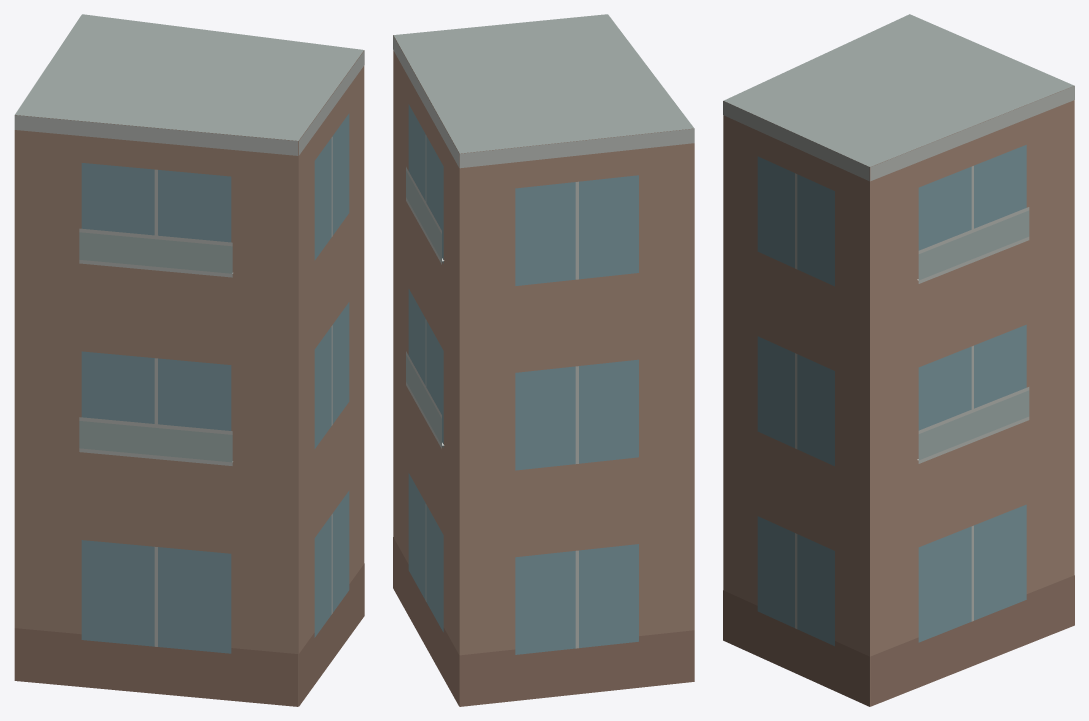
Rendered from survey-upis-32945303.glb.
The picture shows the model from 3 angles, left to right: view 1: azimuth 30°, elevation 25°; view 2: azimuth 150°, elevation 25°; view 3: azimuth 270°, elevation 25°; orthographic projection. The views are drawn at different scales.
Parts seen in each view (by area): view 1: survey-upis-32945303.tmp; view 2: survey-upis-32945303.tmp; view 3: survey-upis-32945303.tmp.
Boxes of the visible parts, left/top/right/bottom form: survey-upis-32945303.tmp: left=14, top=14, right=364, bottom=706; survey-upis-32945303.tmp: left=393, top=14, right=694, bottom=706; survey-upis-32945303.tmp: left=723, top=14, right=1074, bottom=706.
Size of the model in its own units: 5.57 by 9.15 by 5.4.
